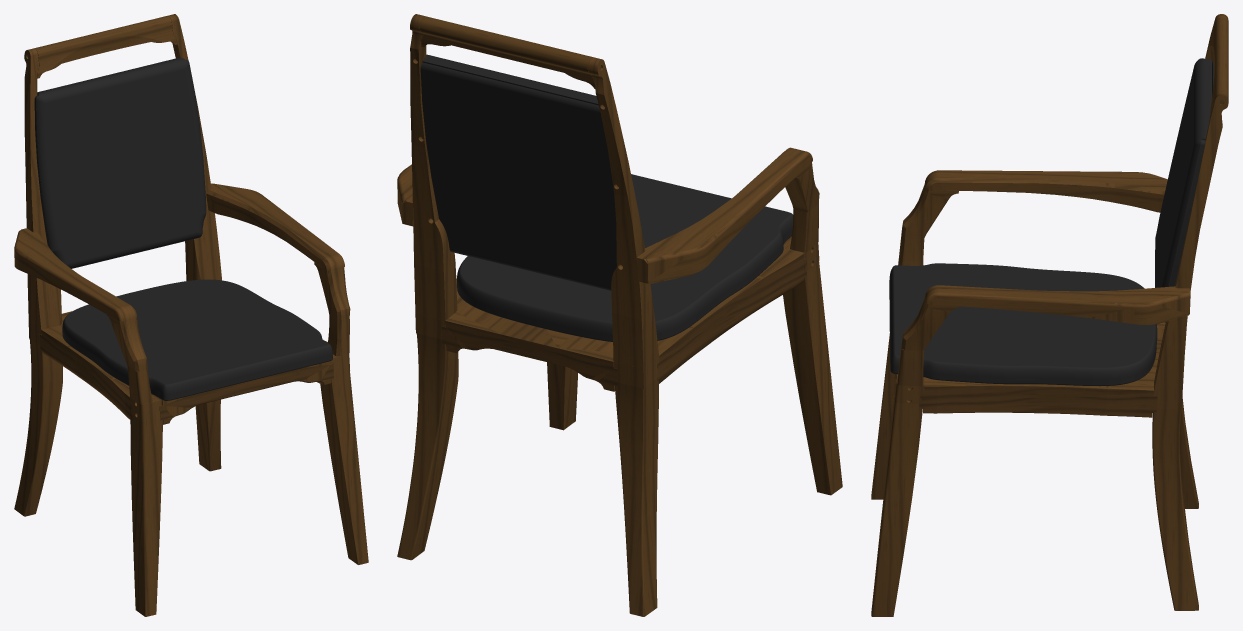
Rendered from windsor.glb.
The picture shows the model from 3 angles, left to right: view 1: azimuth 30°, elevation 25°; view 2: azimuth 150°, elevation 25°; view 3: azimuth 270°, elevation 25°; orthographic projection. The views are drawn at different scales.
Visible parts, largest first — view 1: Chair; view 2: Chair; view 3: Chair.
Boxes of the visible parts, left/top/right/bottom form: Chair: left=14, top=14, right=368, bottom=616; Chair: left=397, top=14, right=842, bottom=616; Chair: left=871, top=14, right=1228, bottom=616.
Bounding box in the file's own units: 0.581 × 1.02 × 0.6548.
Materials: 2 (1 with a texture image).
